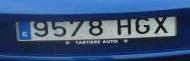5: (51, 19, 67, 38)
7: (70, 19, 84, 38)
8: (88, 18, 104, 37)
9: (33, 21, 49, 38)
G: (135, 16, 151, 34)
H: (117, 18, 132, 36)
X: (153, 15, 168, 34)
